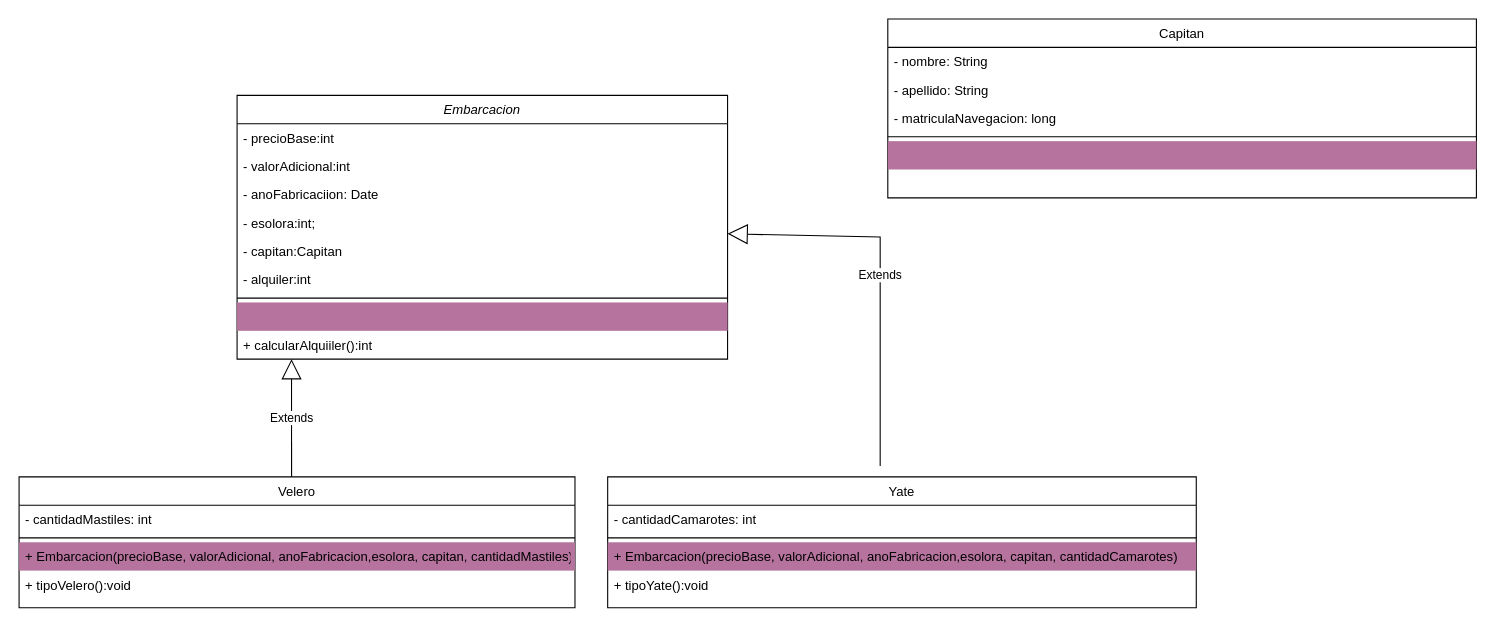
Some shapes in this 1495 by 627 pixel diagram are drawn without their labels. The shapes that lost their labels are listed below. From the top down, each one's box as (x1, y1, x2, y2) in pixels, then its label:
(887, 141, 1476, 169): + Capitan(nombre, apellido, matriculaNavegacion)
(237, 302, 727, 330): + Embarcacion(precioBase, valorAdicional, anoFabricacion,esolora, capitan)
